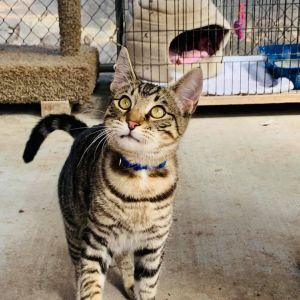bengal: (95, 45, 211, 160)
